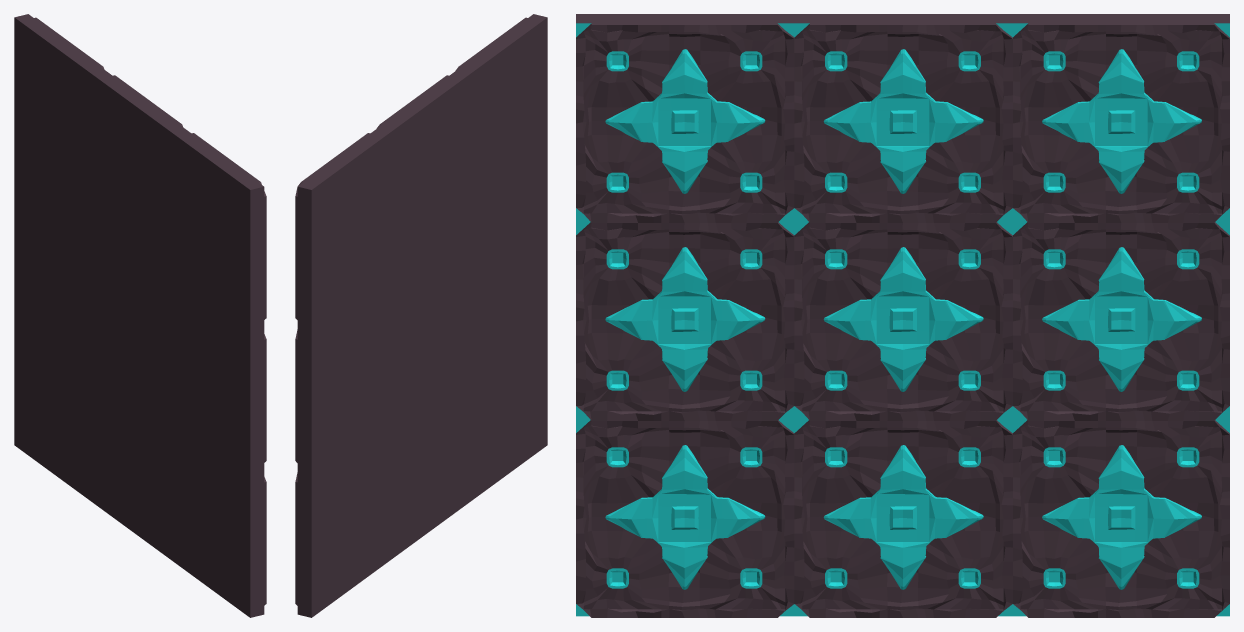
Rendered from SpockPlacer_Waterfall.fbx.
3 renders of one model, left to right at view 1: azimuth 30°, elevation 25°; view 2: azimuth 150°, elevation 25°; view 3: azimuth 270°, elevation 25°, orthographic. The views are drawn at different scales.
Visible parts, largest first — view 1: Spock Placer_Rock; view 2: Spock Placer_Rock; view 3: Spock Placer_Rock.
Boxes of the visible parts, left/top/right/bottom form: Spock Placer_Rock: left=14, top=14, right=266, bottom=617; Spock Placer_Rock: left=295, top=14, right=547, bottom=617; Spock Placer_Rock: left=576, top=14, right=1229, bottom=617.
Size of the model in its own units: 20.67 by 452 by 452.
